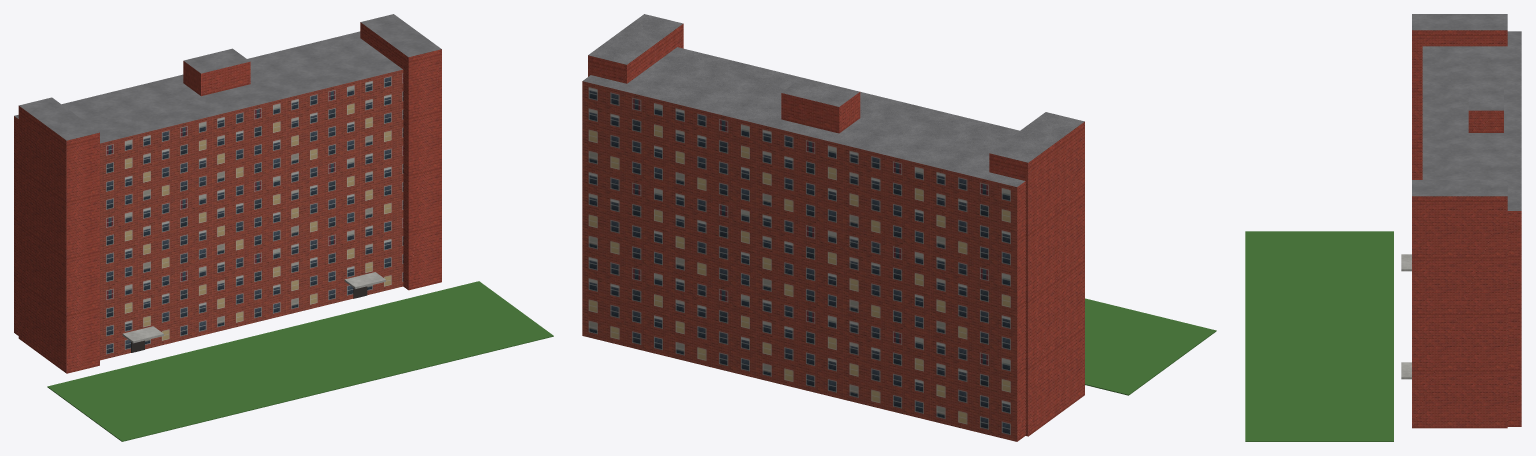
The model's file is 024_project_slab.glb.
The picture shows the model from 3 angles, left to right: view 1: azimuth 30°, elevation 25°; view 2: azimuth 150°, elevation 25°; view 3: azimuth 270°, elevation 25°; orthographic projection. The views are drawn at different scales.
Visible parts, largest first — view 1: 024_project_slab; view 2: 024_project_slab; view 3: 024_project_slab.
Boxes of the visible parts, x1=… form: 024_project_slab: x1=14, y1=14, x2=553, y2=441; 024_project_slab: x1=582, y1=14, x2=1216, y2=441; 024_project_slab: x1=1245, y1=14, x2=1521, y2=441.
Size of the model in its own units: 70 by 37.1 by 39.
Materials: 6 (4 with a texture image).
